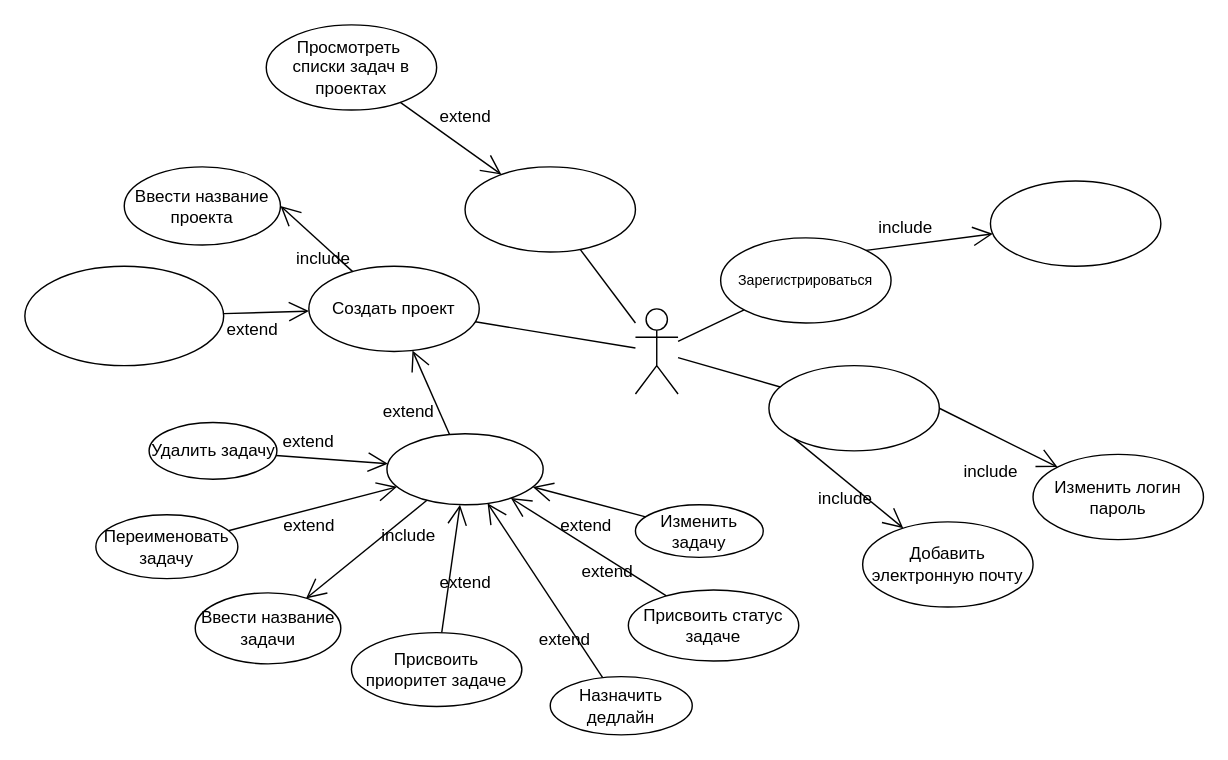
Image size: 1228x760. Some labels were removed from this diagram. Each missing label, with the centre of its shape:
"Добавить другого пользователя в проект" goes at point 123,315.
"Изменить профиль" goes at point 853,407.
"Пользователь" goes at point 656,350.
"Просмотреть список проектов" goes at point 549,208.
"Создать задачу/заметку" goes at point 464,468.
"Создать логин, пароль" goes at point 1075,223.
